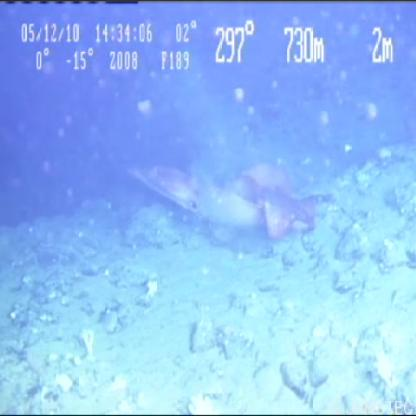Bio: (122, 153, 322, 253)
